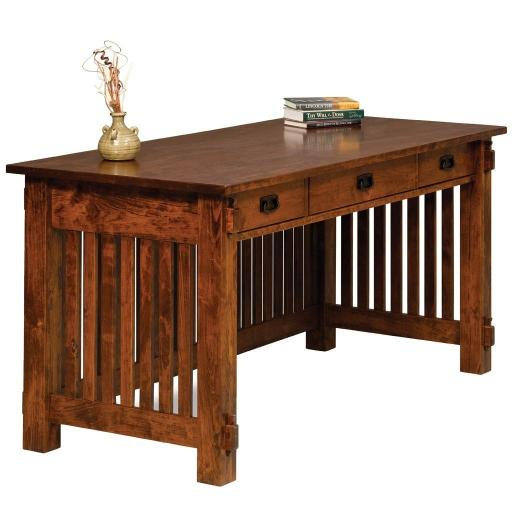desk: (6, 115, 508, 487)
